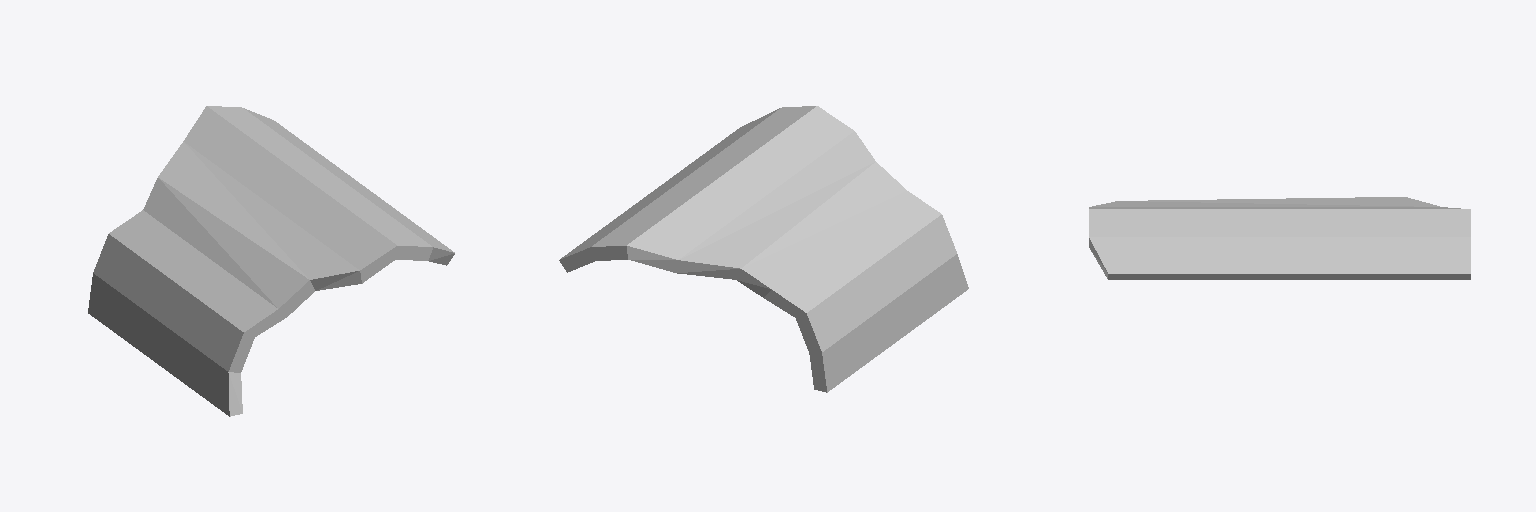
File: scrapmetal2.obj
The picture shows the model from 3 angles: view 1: azimuth 30°, elevation 25°; view 2: azimuth 150°, elevation 25°; view 3: azimuth 270°, elevation 25°; orthographic projection.
Visible parts, largest first — view 1: scrapmetal2; view 2: scrapmetal2; view 3: scrapmetal2.
Boxes of the visible parts, <box> form: scrapmetal2: <box>88,106,454,416</box>; scrapmetal2: <box>559,106,968,392</box>; scrapmetal2: <box>1089,197,1470,279</box>.
Size of the model in its own units: 3.44 by 2 by 5.